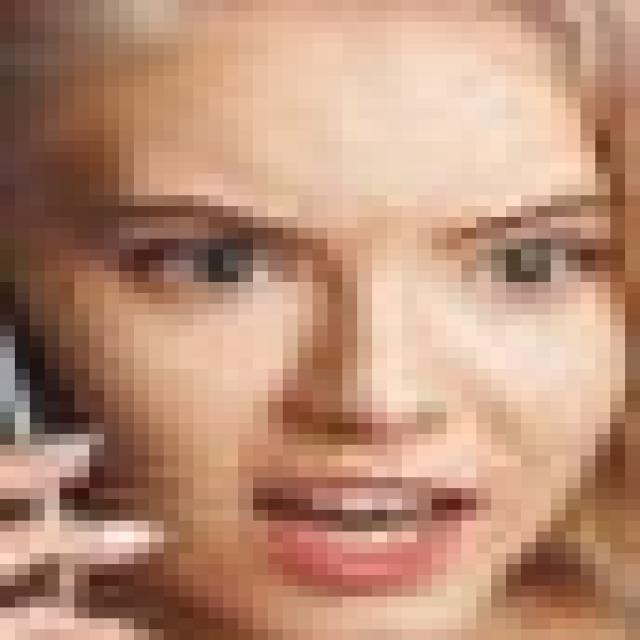Anxiety: (7, 0, 625, 629)
